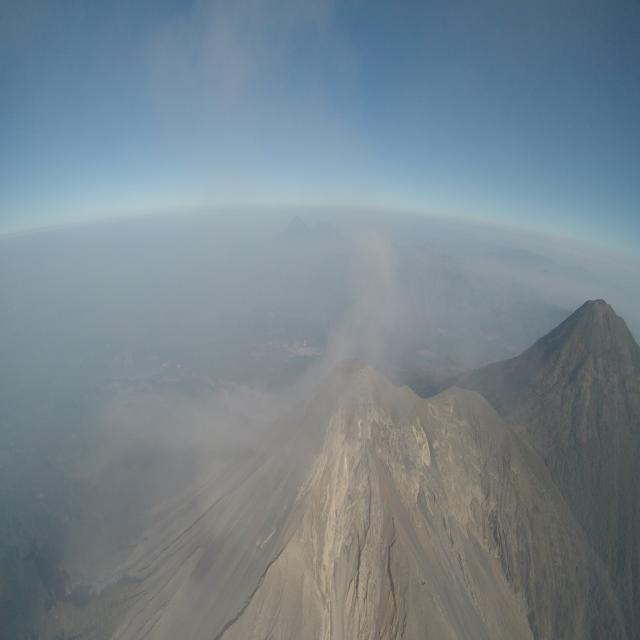Summit: (297, 354, 428, 504)
